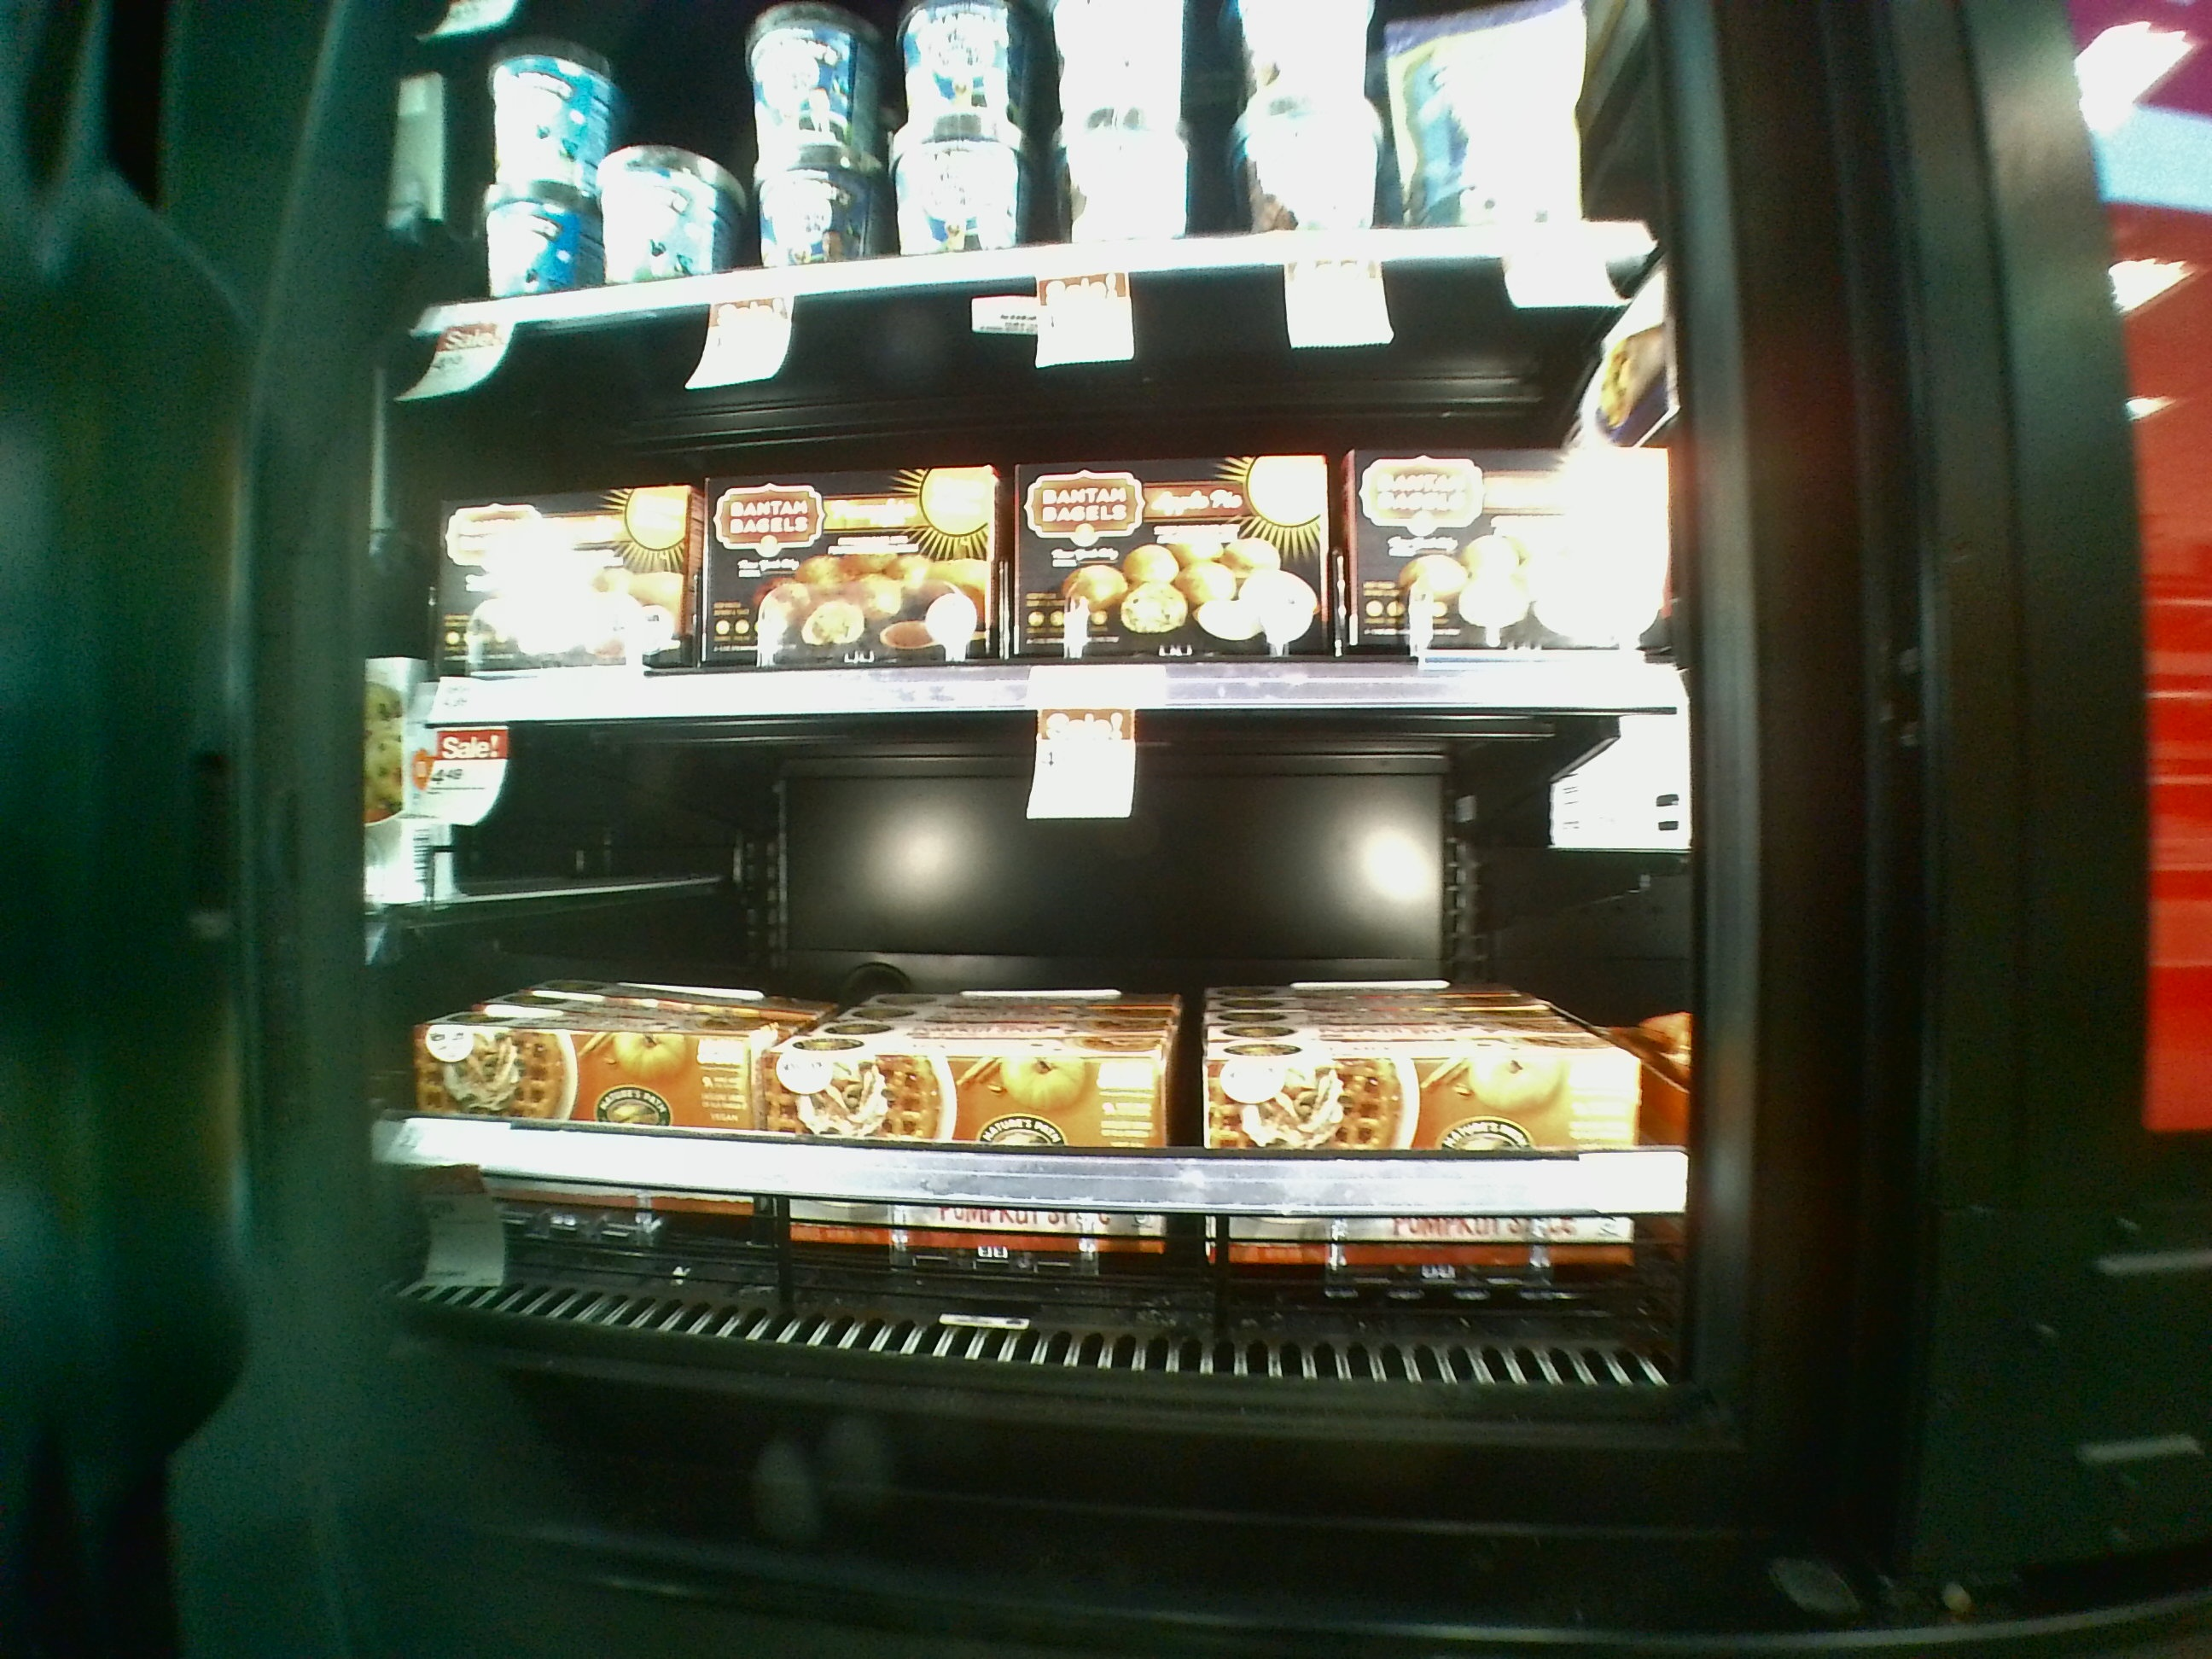shelf: (347, 680, 1705, 1448), (355, 310, 1684, 713)
